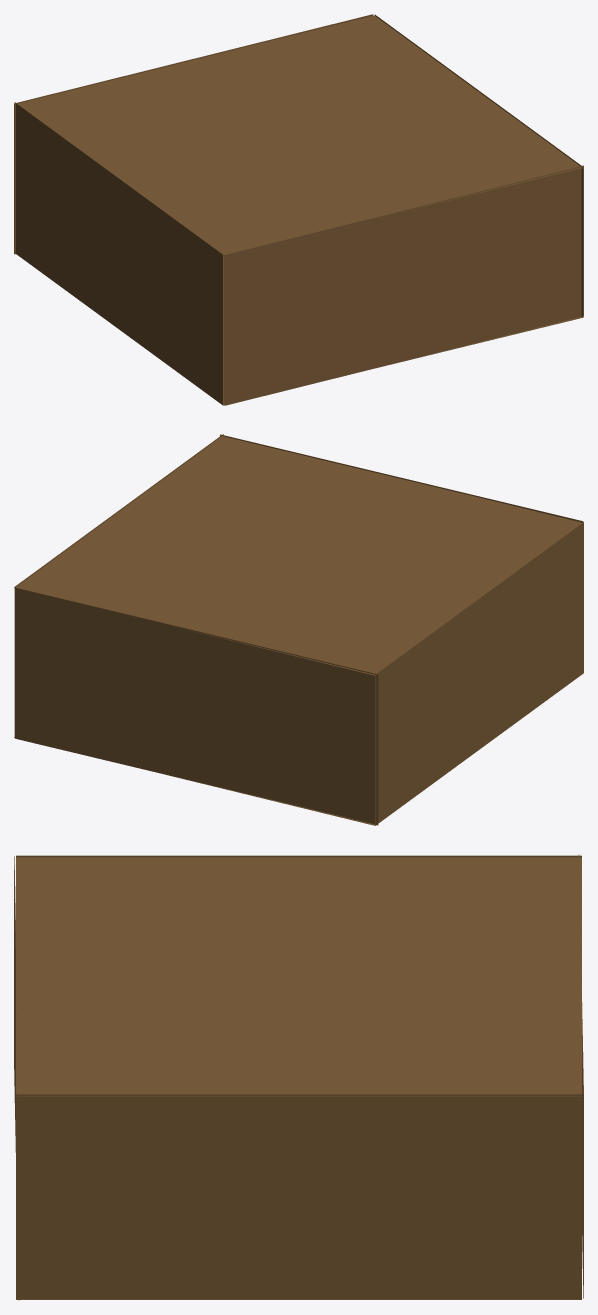
Rendered from Noobie_Room.glb.
The picture shows the model from 3 angles, top to bottom: view 1: azimuth 30°, elevation 25°; view 2: azimuth 150°, elevation 25°; view 3: azimuth 270°, elevation 25°; orthographic projection. The views are drawn at different scales.
Visible parts, largest first — view 1: Cube copy (×2), Cube copy copy (×2), Cube copy copy copy, Cube; view 2: Cube copy (×2), Cube copy copy copy, Cube copy copy (×2); view 3: Cube copy (×2), Cube copy copy (×2), Cube copy copy copy.
Boxes of the visible parts, bbox=[...] form: Cube copy (×2): bbox=[14, 15, 583, 405]; Cube copy copy (×2): bbox=[224, 14, 583, 405]; Cube copy copy copy: bbox=[14, 14, 373, 254]; Cube: bbox=[16, 254, 583, 405]; Cube copy (×2): bbox=[14, 436, 583, 825]; Cube copy copy copy: bbox=[15, 587, 378, 825]; Cube copy copy (×2): bbox=[14, 434, 583, 737]; Cube copy (×2): bbox=[16, 855, 581, 1096]; Cube copy copy (×2): bbox=[14, 856, 581, 1300]; Cube copy copy copy: bbox=[578, 854, 583, 1298].
Size of the model in its own units: 10.08 by 4 by 10.07.
